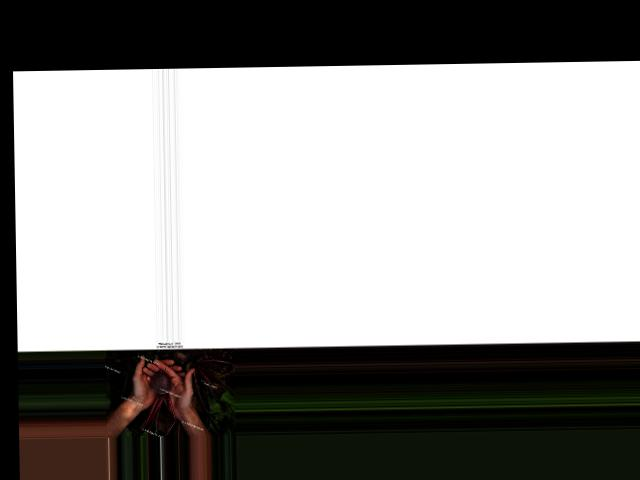beet: (137, 369, 178, 435)
